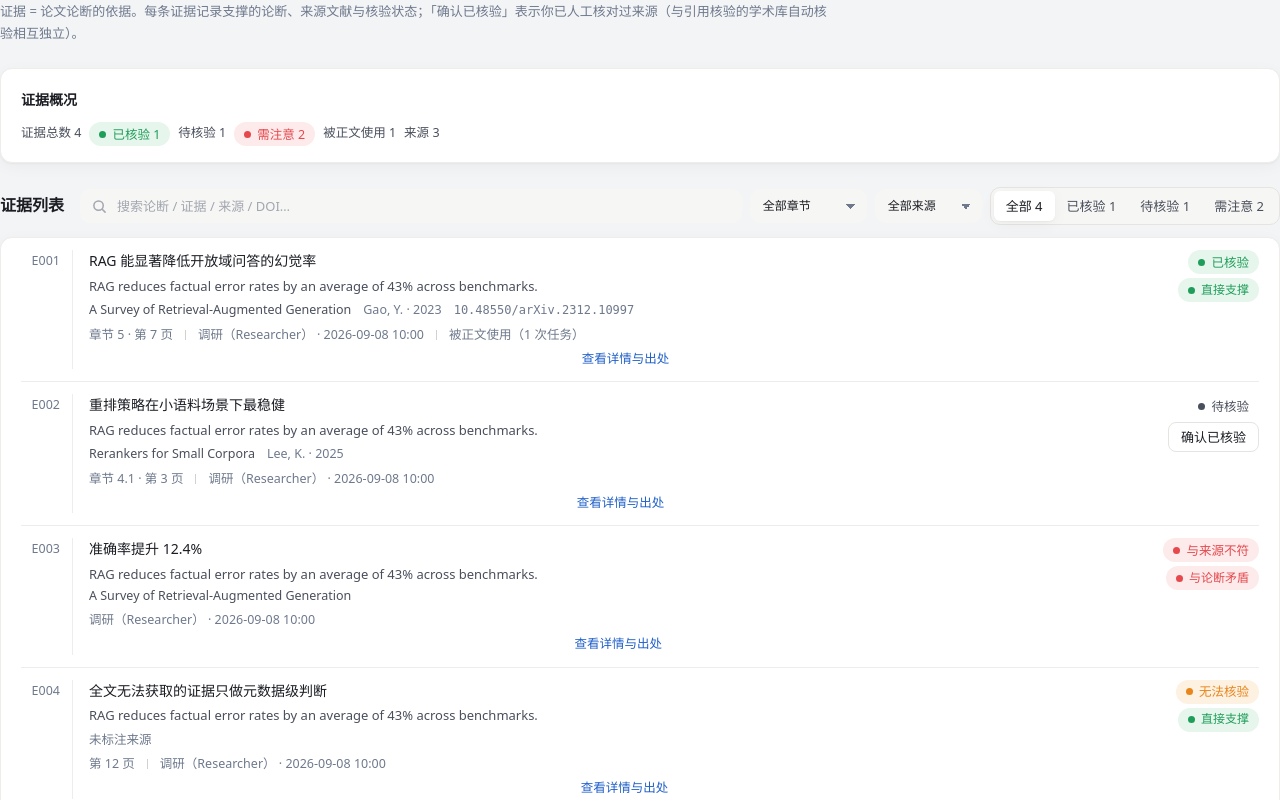
Test: 证据工作台 › 搜索：命中 claim / DOI；无结果时给出筛选提示
Type "幻觉率" into the search field with test id "evidence-search" at (411, 206), box [80,189,742,223]
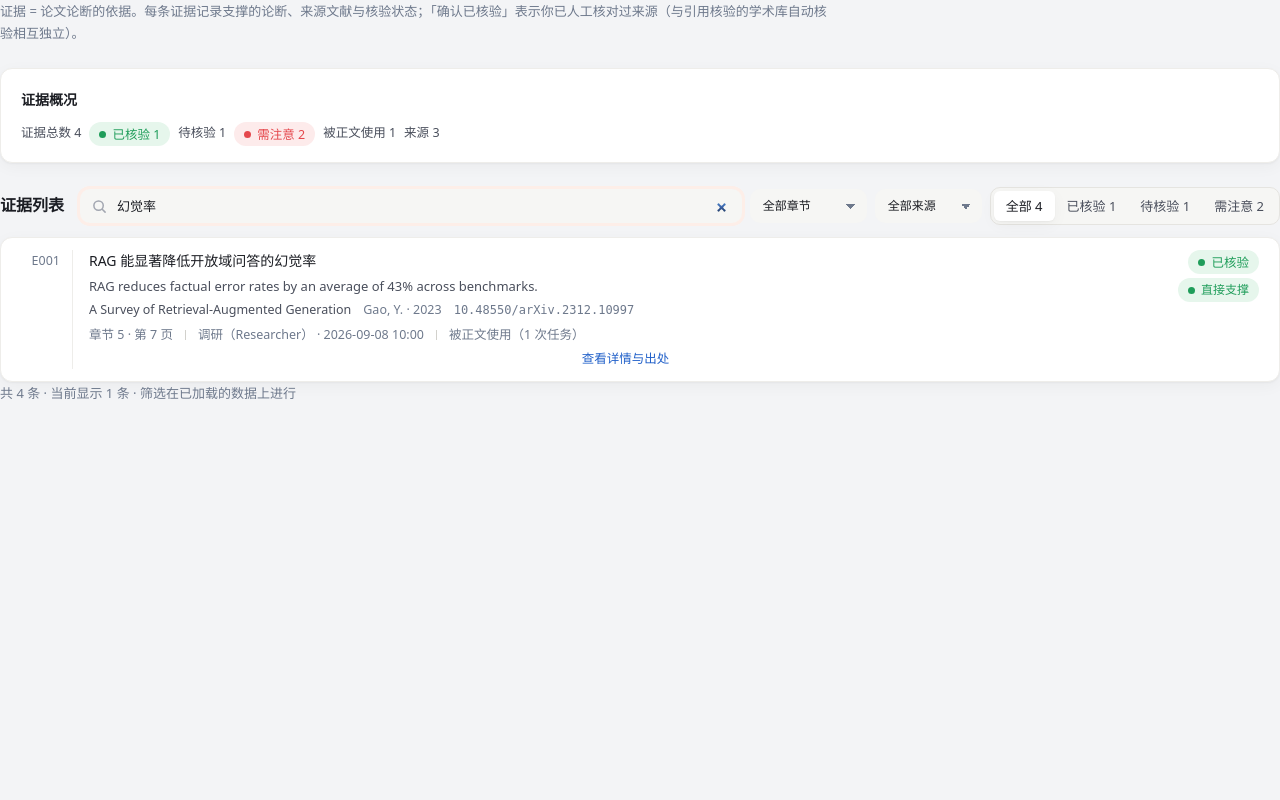
expect the text "E001" is shown: met, box [21,250,73,369]
Replace the text in the search field with test id "evidence-search" with "10.9999/nonexistent" at (411, 206), box [80,189,742,223]
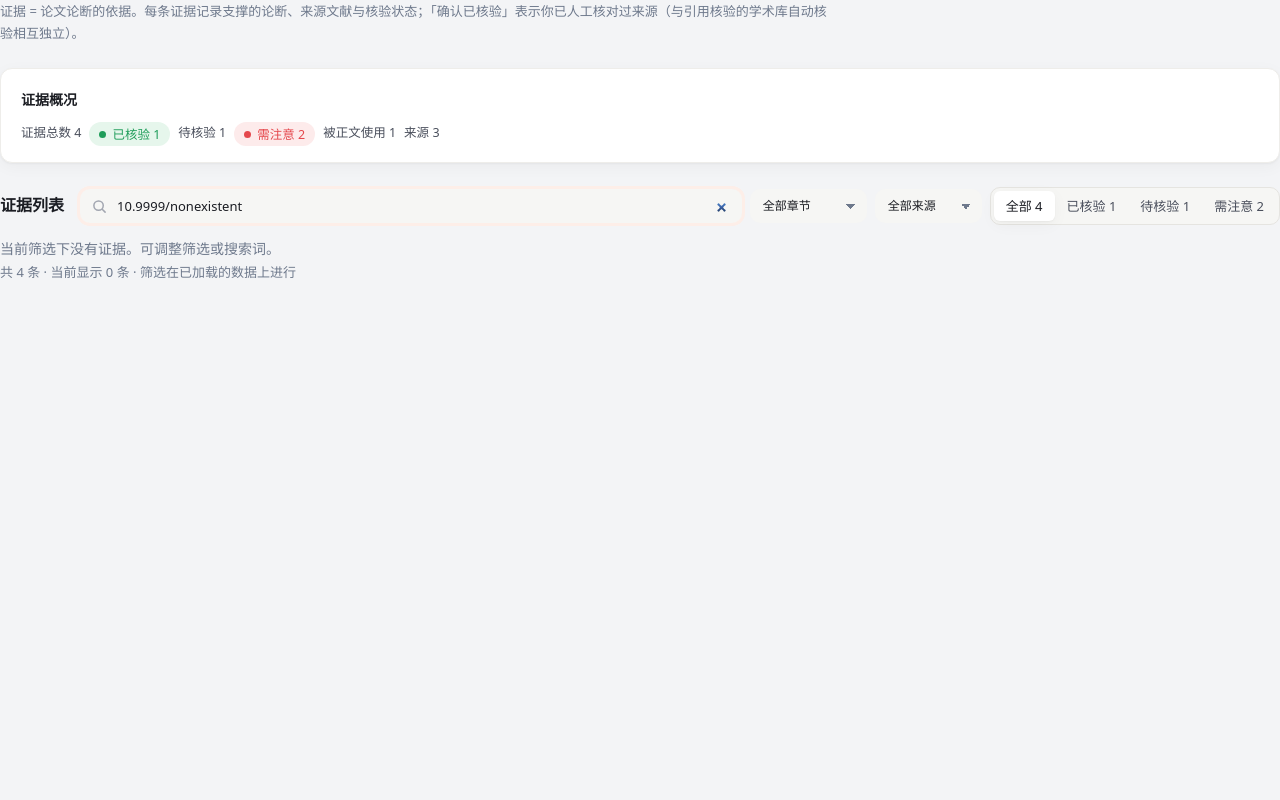
expect the text "当前筛选下没有证据。可调整筛选或搜索词。" is shown: met, box [0,239,280,258]
